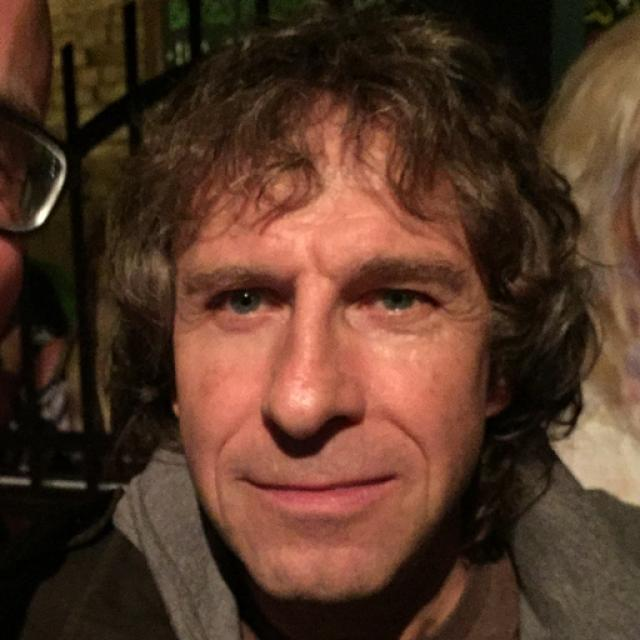content: (174, 94, 490, 602)
